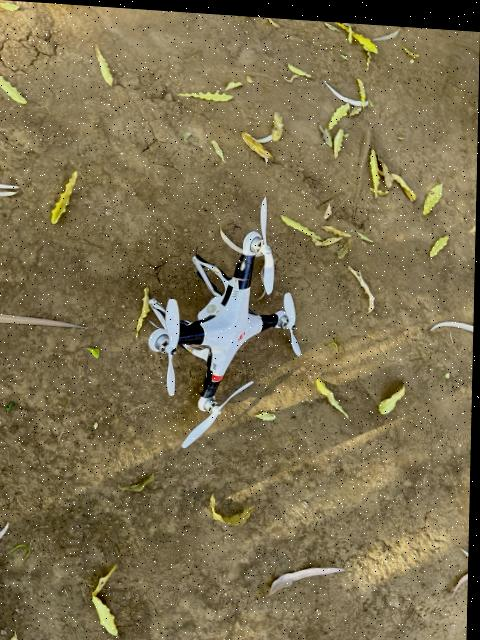drone: (87, 168, 364, 484)
